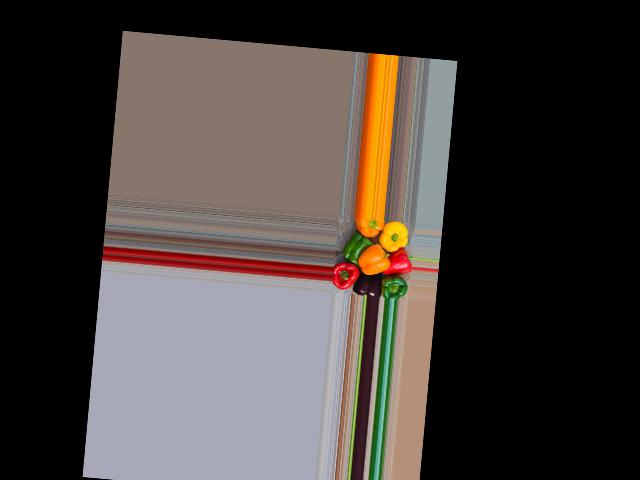bell_pepper: (345, 216, 383, 245)
